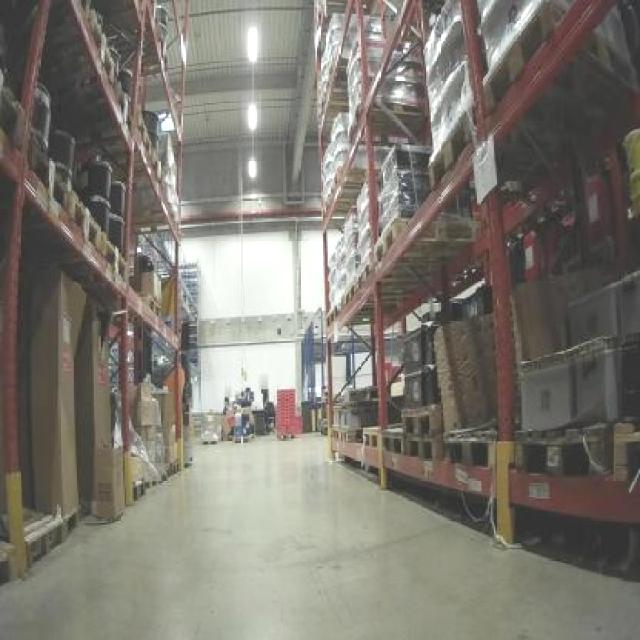floor: (0, 434, 637, 637)
pallets: (314, 0, 637, 540)
